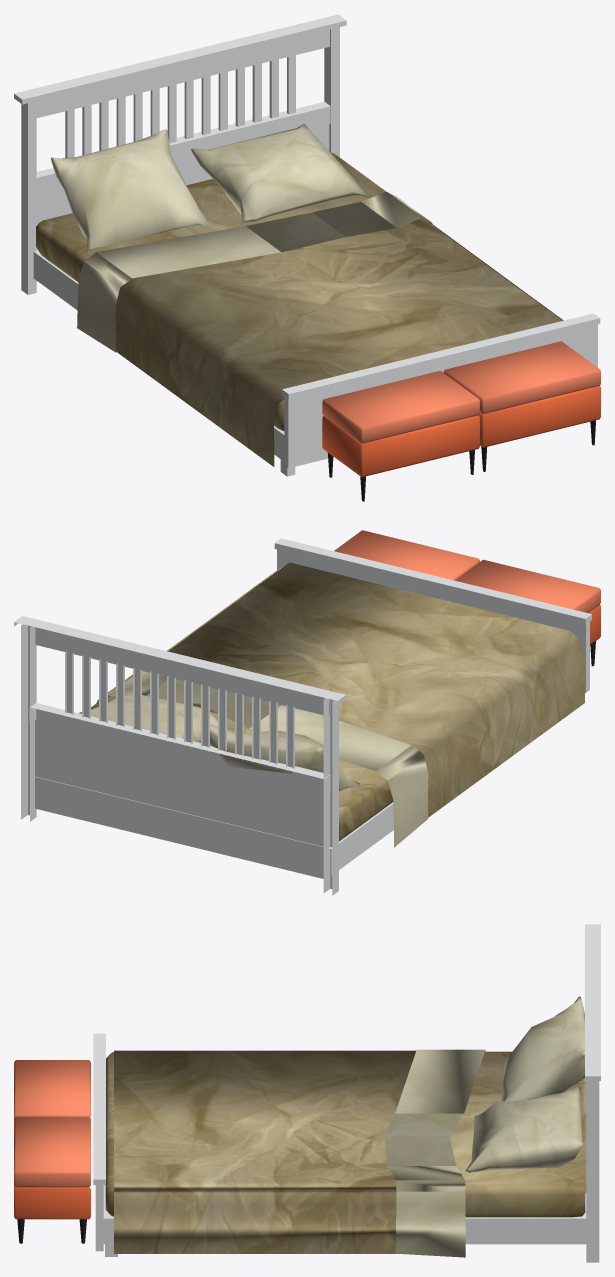
File: chuang_ceshi.FBX
3 views of the same model, one above another, from view 1: azimuth 30°, elevation 25°; view 2: azimuth 150°, elevation 25°; view 3: azimuth 270°, elevation 25° (orthographic). The views are drawn at different scales.
Parts seen in each view (by area): view 1: M_chuang01_02, M_chuang01_01, M_chuang01_03; view 2: M_chuang01_02, M_chuang01_01, M_chuang01_03; view 3: M_chuang01_02, M_chuang01_03, M_chuang01_01.
Boxes of the visible parts, <box> form: M_chuang01_02: <box>36,123,563,466</box>; M_chuang01_01: <box>14,14,600,476</box>; M_chuang01_03: <box>322,341,600,477</box>; M_chuang01_02: <box>79,562,585,847</box>; M_chuang01_01: <box>14,538,591,895</box>; M_chuang01_03: <box>334,530,600,644</box>; M_chuang01_02: <box>105,996,586,1257</box>; M_chuang01_03: <box>14,1060,90,1219</box>; M_chuang01_01: <box>93,924,600,1262</box>.
Size of the model in its own units: 226 by 131 by 369.
